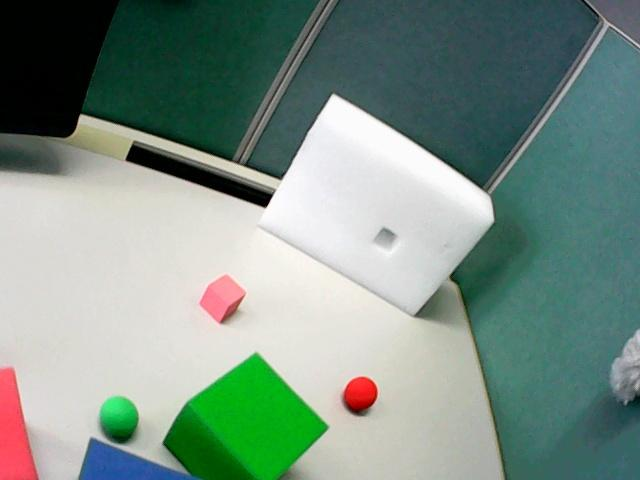blue_block: (79, 438, 194, 479)
red_block: (0, 368, 37, 479), (200, 274, 245, 321)
